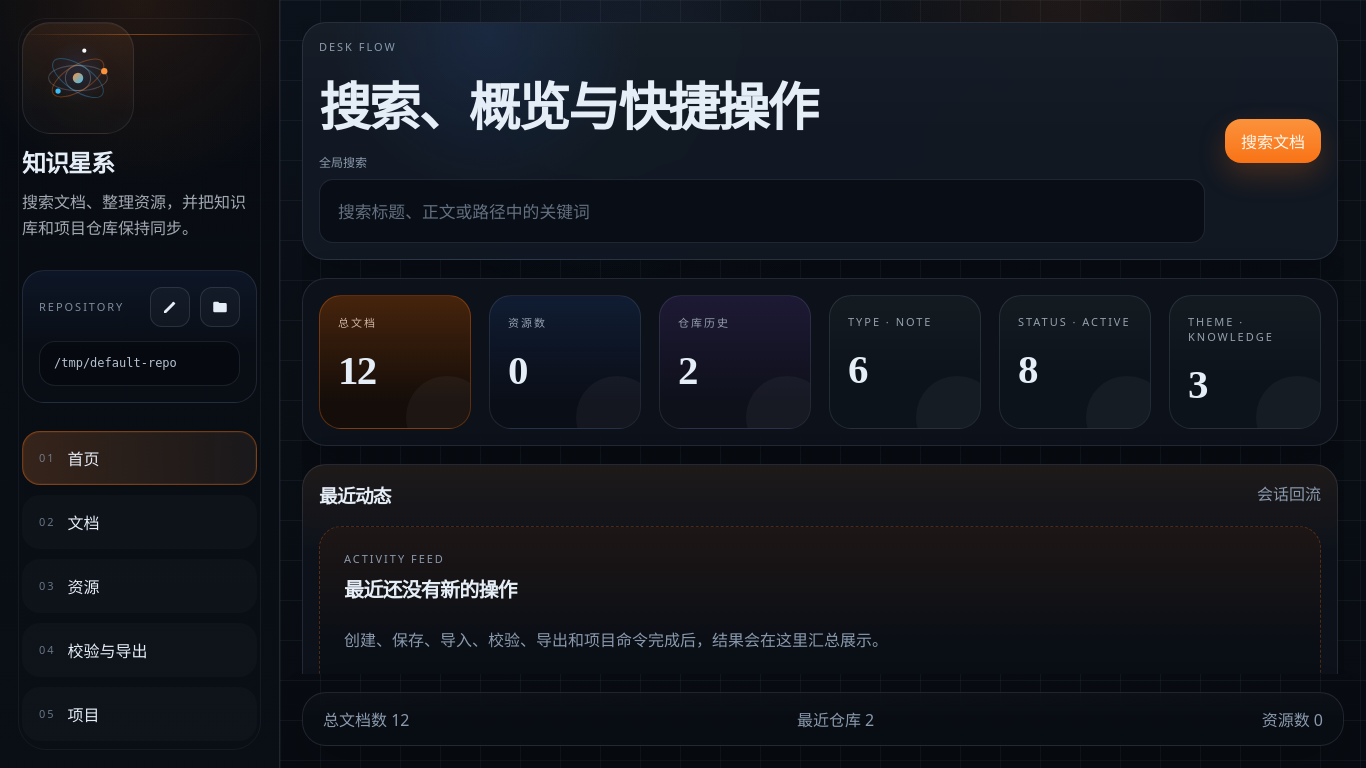
it: App › opens the selected imported document when multiple migration results exist
Expected: the text "/tmp/default-repo" is shown, [39,341,240,386]
Click the button "03 资源": [140, 586] box [22,559,257,613]
(page scrolled)
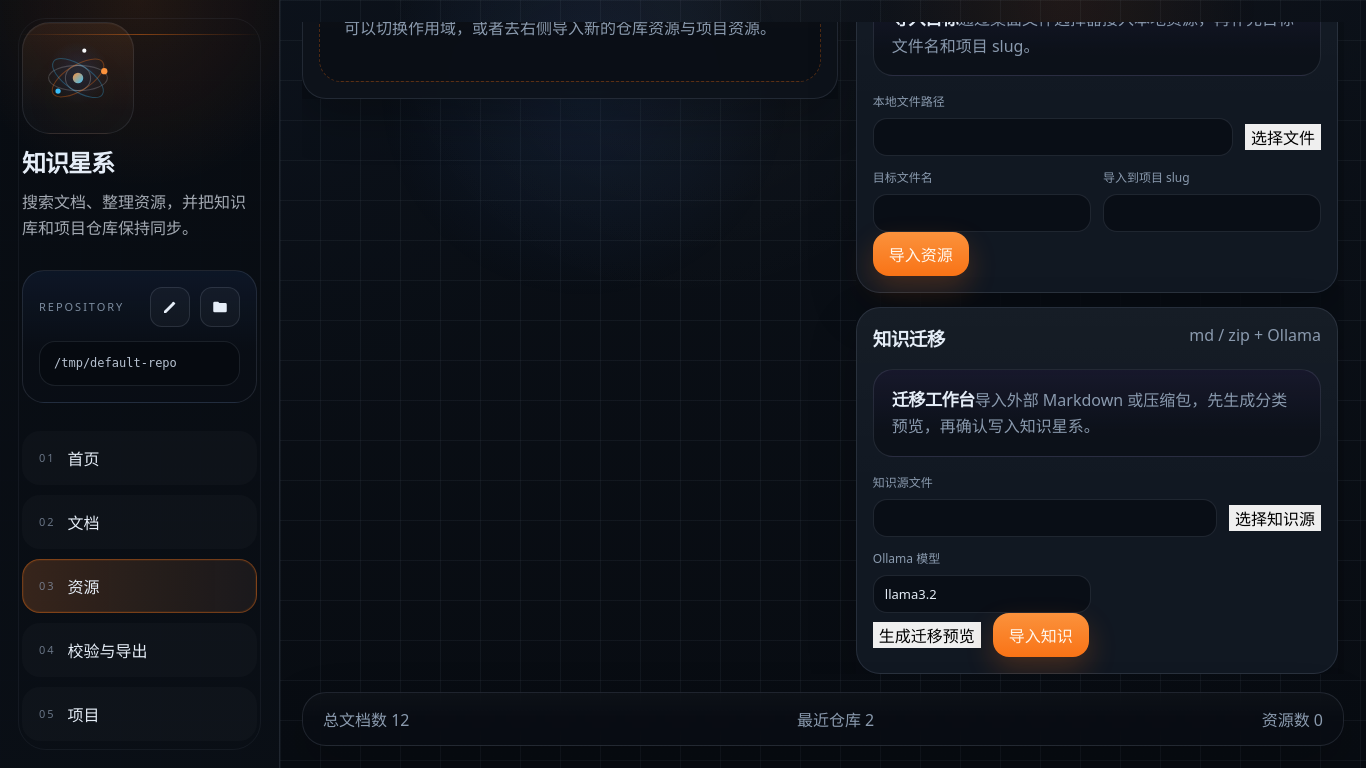
Click the button "选择知识源": [1275, 518] box [1229,505,1321,531]
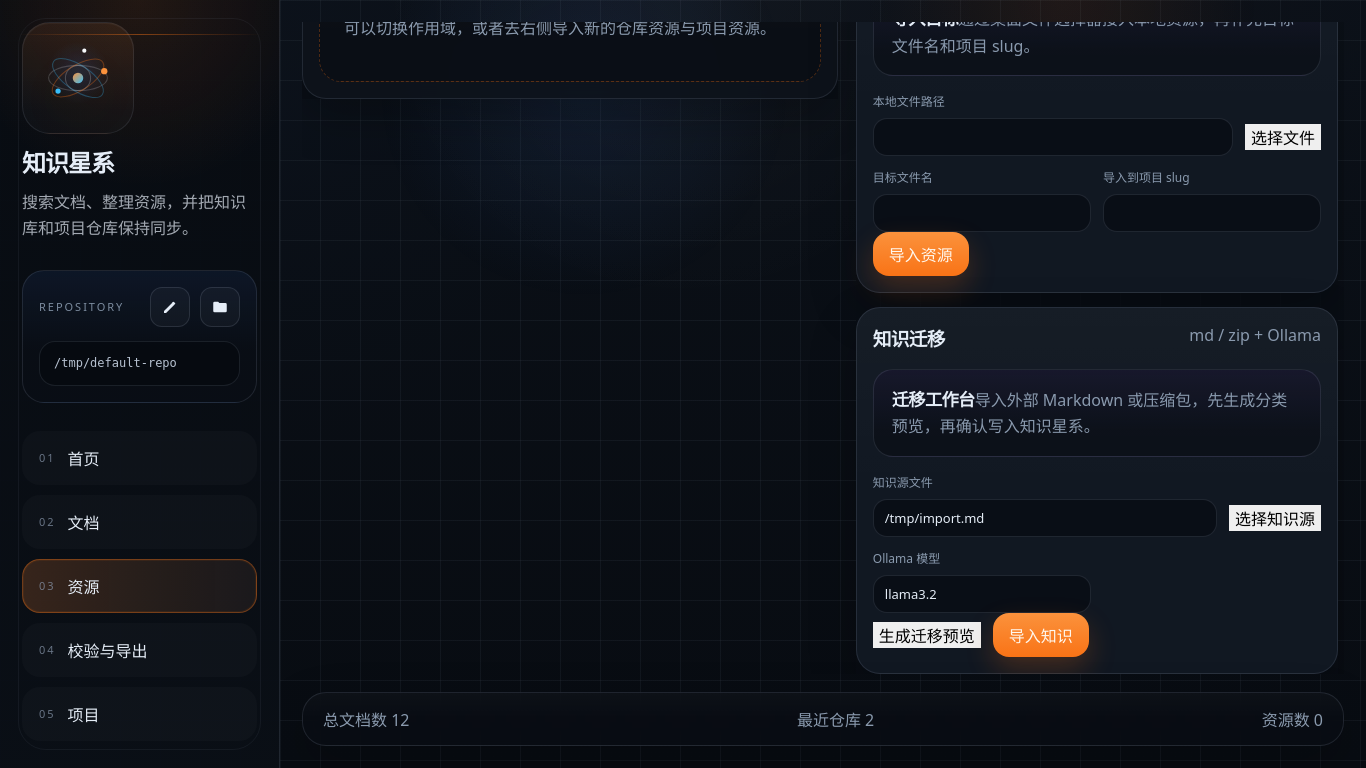
Result: the field showing "/tmp/import.md" is shown at [873,499,1217,537]
Click the button "生成迁移预览": [927, 635] box [873,622,981,648]
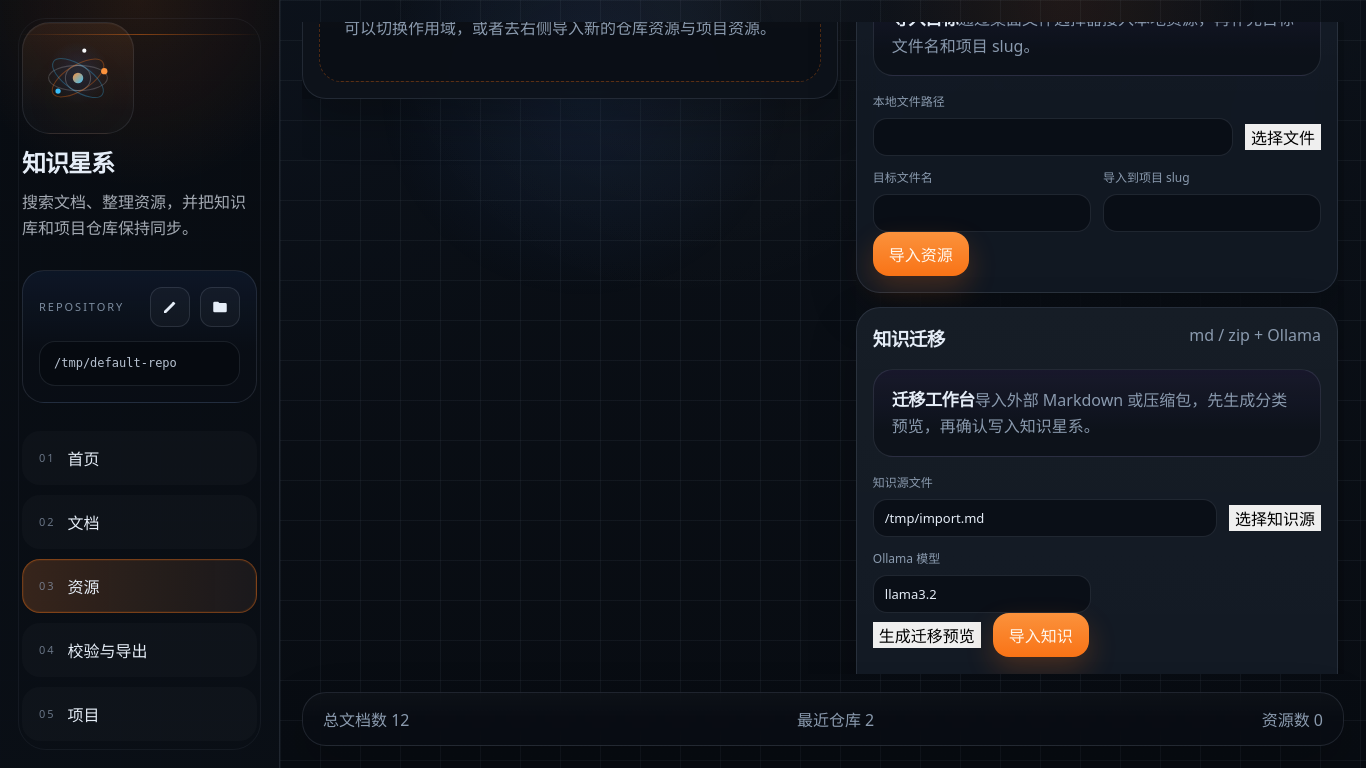
Click the button "导入知识": [1041, 635] box [993,613,1089,657]
(page scrolled)
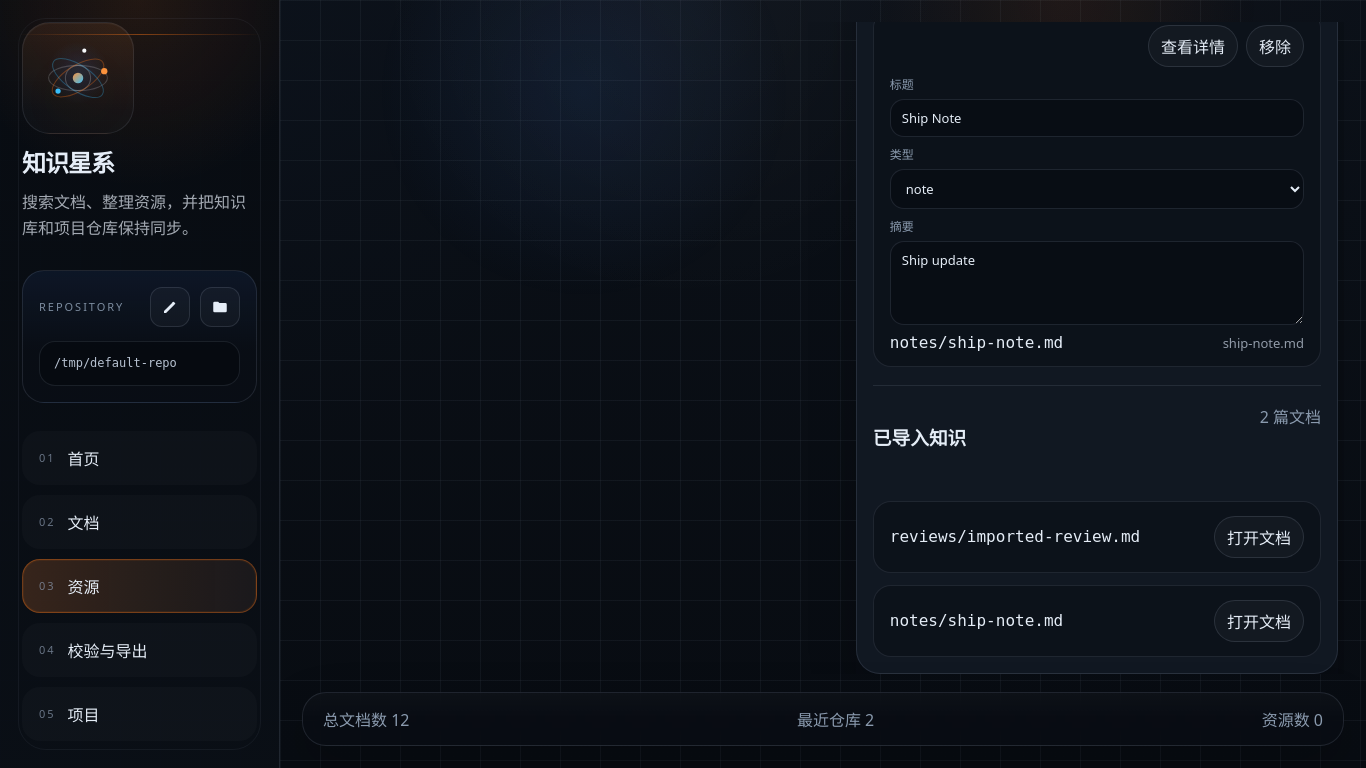
Result: the heading "已导入知识" is shown at [873,423,966,450]
Click the button with aria-label "打开文档 notes/ship-note.md": [1259, 621] box [1214,600,1304,642]
(page scrolled)
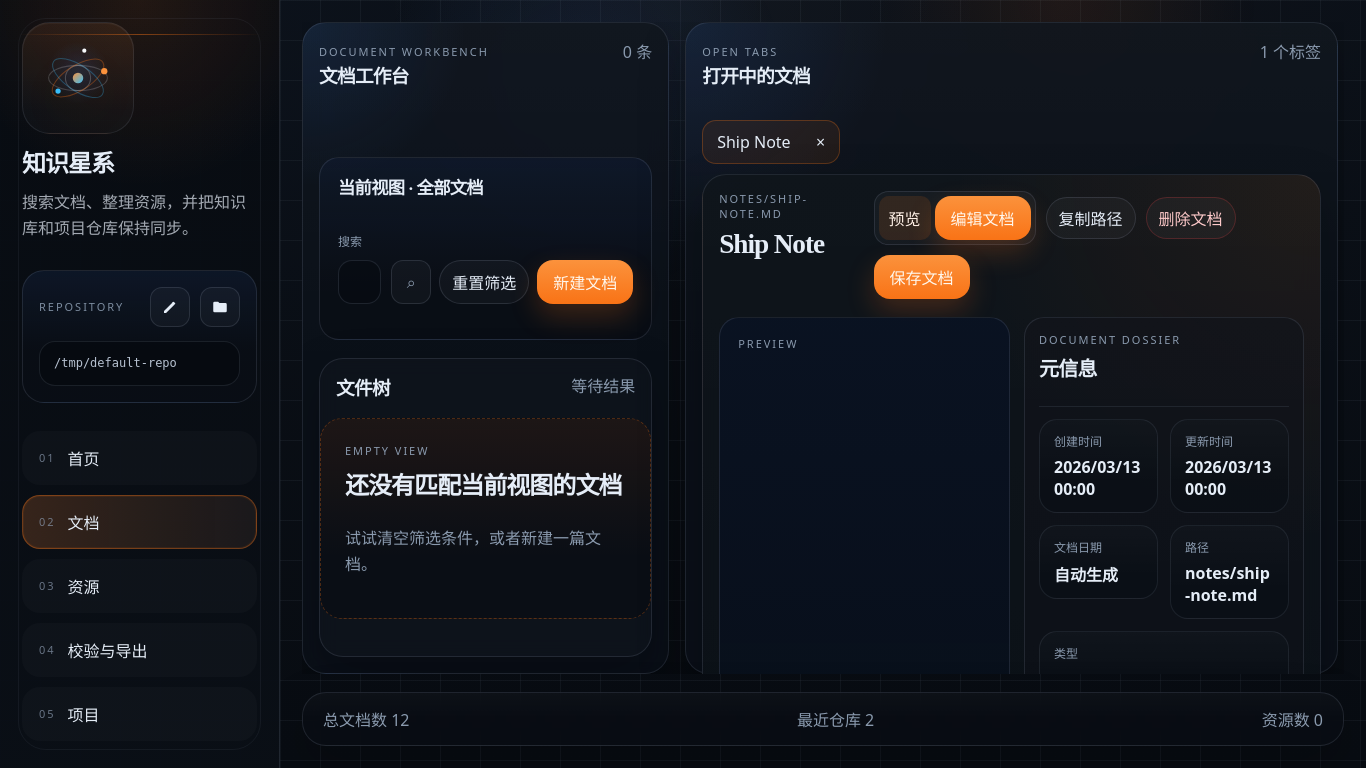
Result: the 1st text "notes/ship-note.md" is shown at [719,191,808,221]
Result: the button with aria-label "切换到标签 Ship Note" is shown at [707,125,801,159]
